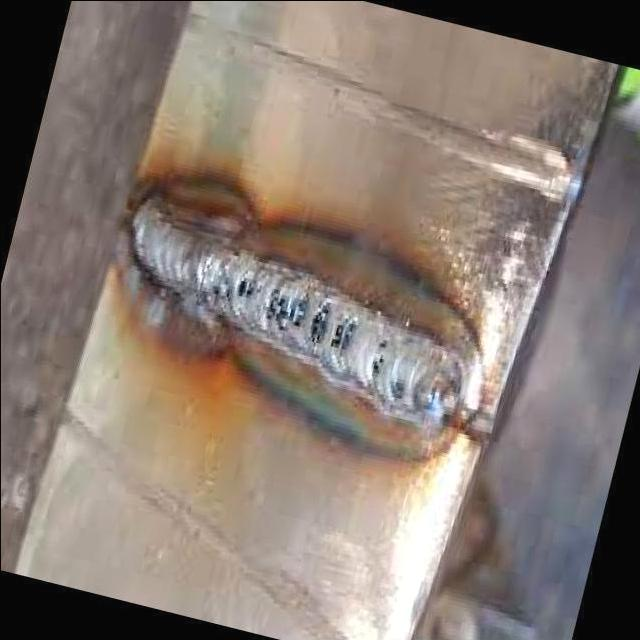defect: (260, 283, 316, 340), (302, 298, 334, 351), (324, 312, 358, 352), (365, 340, 388, 379), (233, 268, 257, 303)
